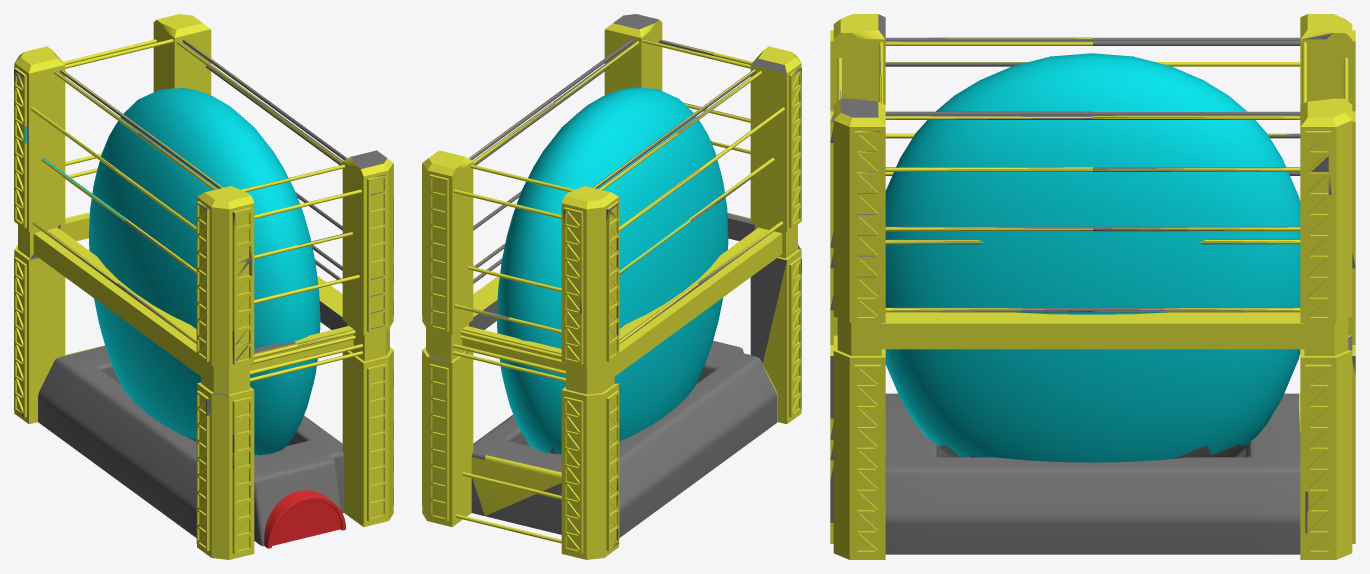
Rendered from Building_4.fbx.
3 views of the same model, side by side, from view 1: azimuth 30°, elevation 25°; view 2: azimuth 150°, elevation 25°; view 3: azimuth 270°, elevation 25° (orthographic). The views are drawn at different scales.
Visible parts, largest first — view 1: Box014; view 2: Box014; view 3: Box014.
Boxes of the visible parts, left/top/right/bottom form: Box014: left=14, top=14, right=393, bottom=559; Box014: left=422, top=14, right=801, bottom=559; Box014: left=830, top=14, right=1355, bottom=559.
Size of the model in its own units: 513 by 951 by 1013.
